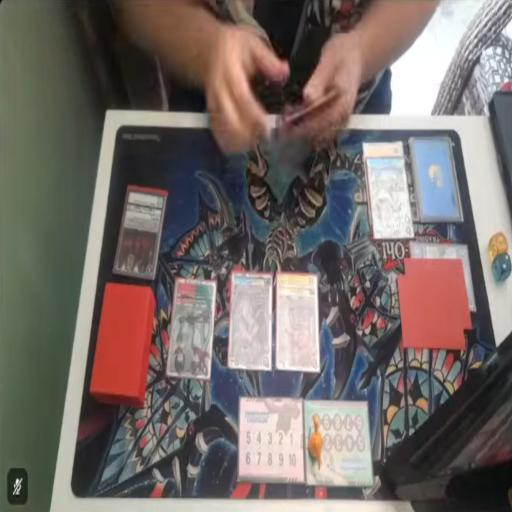card: (166, 279, 217, 379), (112, 190, 168, 280), (410, 240, 478, 313), (278, 270, 321, 376), (228, 272, 272, 374), (367, 158, 409, 239), (362, 136, 405, 158)
